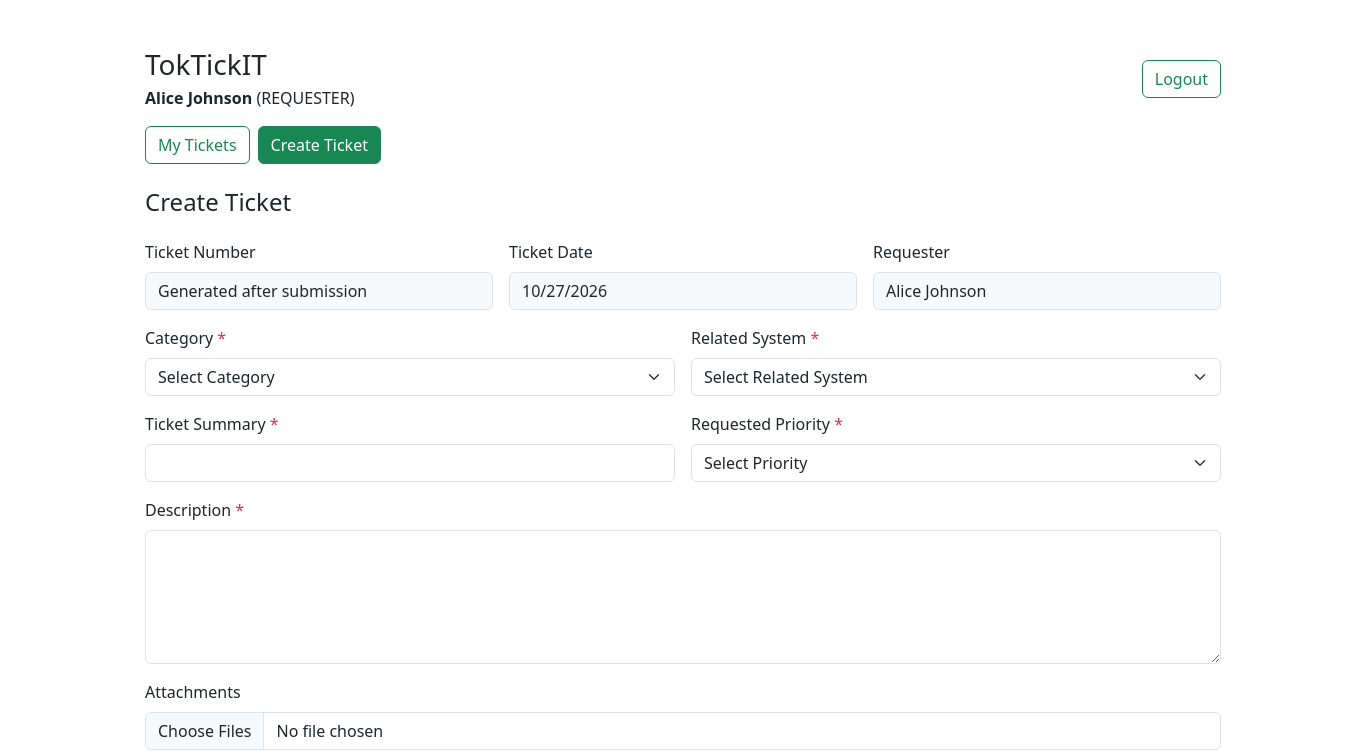
Test case: My Tickets › shows only the authenticated Requester's Tickets
Check: the heading "Create Ticket" is shown, box [145, 185, 291, 218]
What coordinates should you click on to do the following:
click the button "My Tickets"
I would click on:
 (197, 145)
Its box is [145, 126, 250, 164].
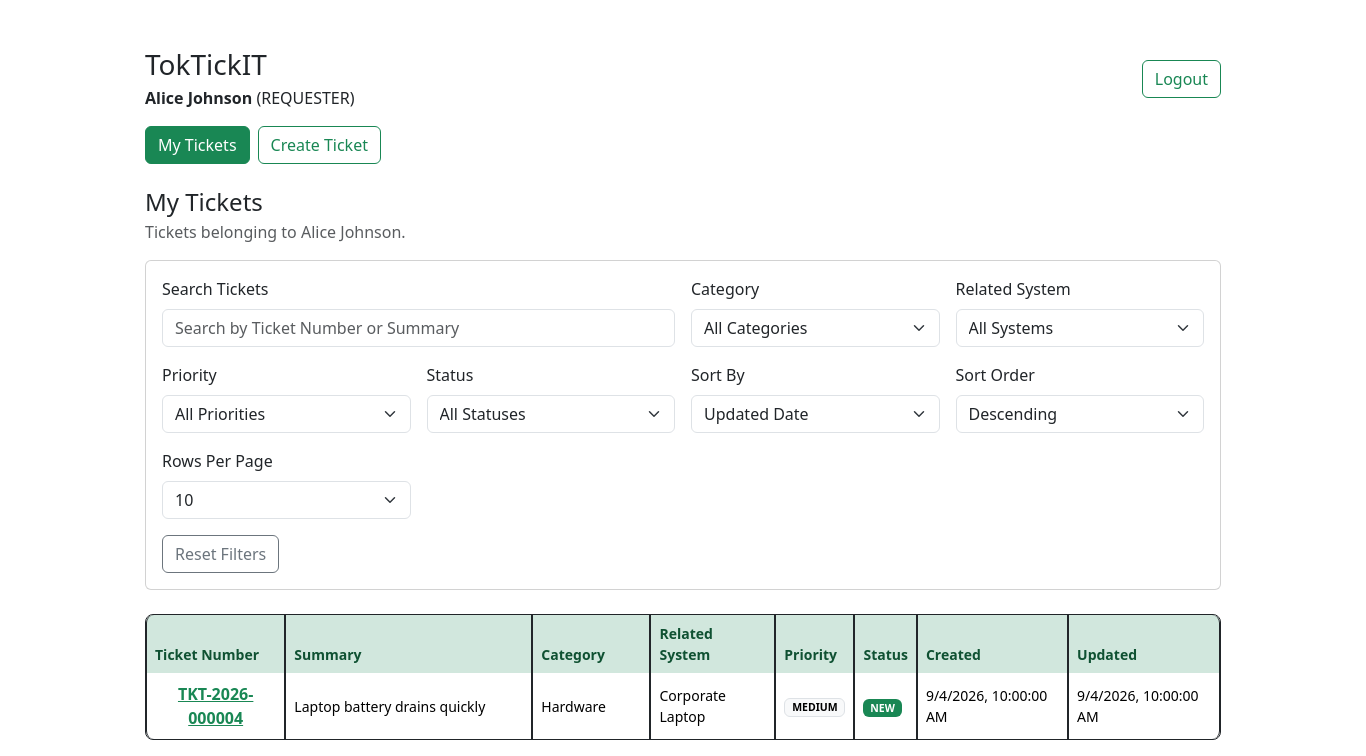
Check: the heading "My Tickets" is shown, box [145, 185, 263, 218]
Check: the button "TKT-2026-000004" is shown, box [155, 681, 276, 731]
Check: the text "Laptop battery drains quickly" is shown, box [285, 673, 532, 739]
